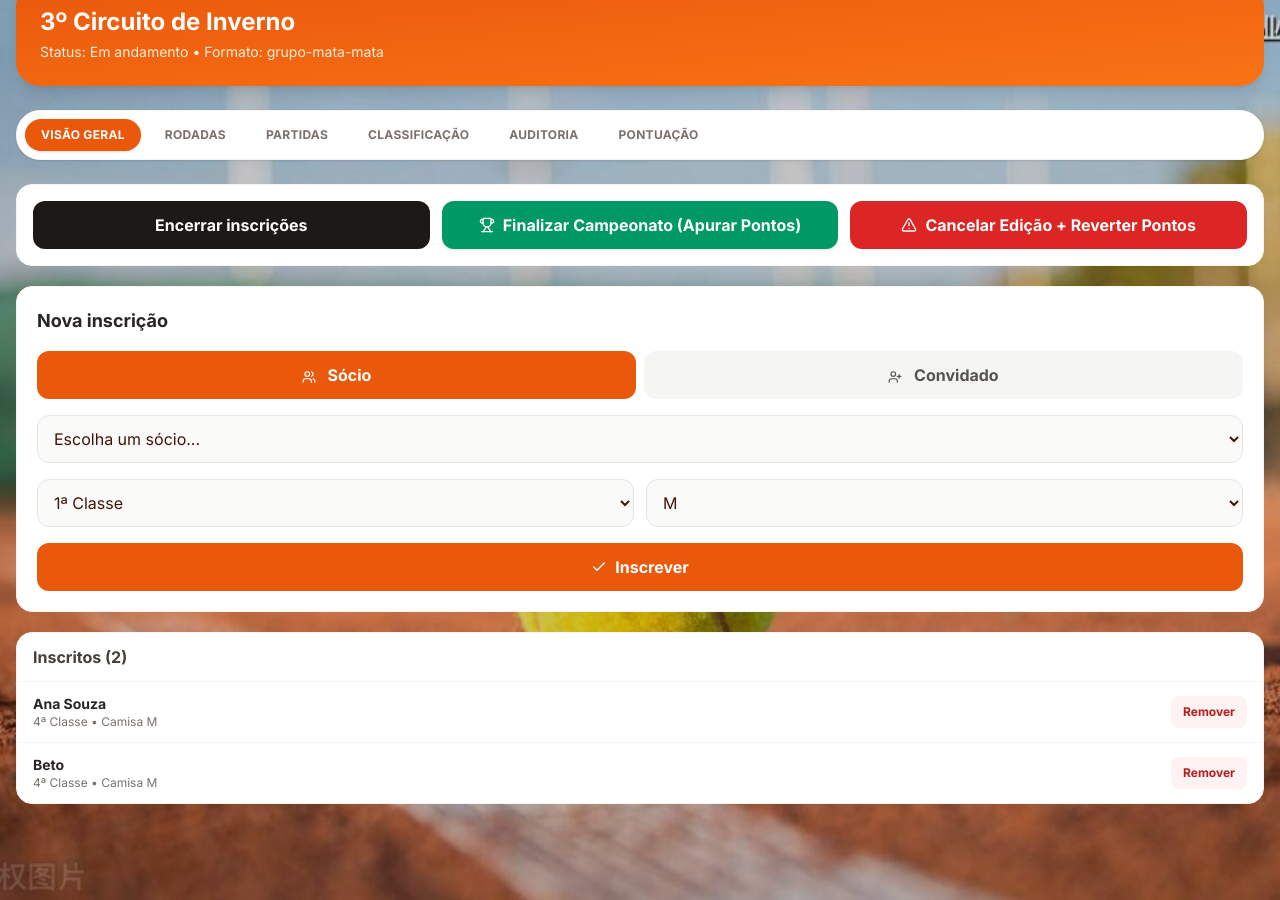
Scenario: ChampionshipAdmin — inscrições › desistir no diálogo não apaga a inscrição
(page scrolled)
Expected: the text "Ana Souza" is shown, [33,695,106,712]
Click the button "Remover" in the row of "Ana Souza": {"x": 1209, "y": 712} [1171,696,1247,728]
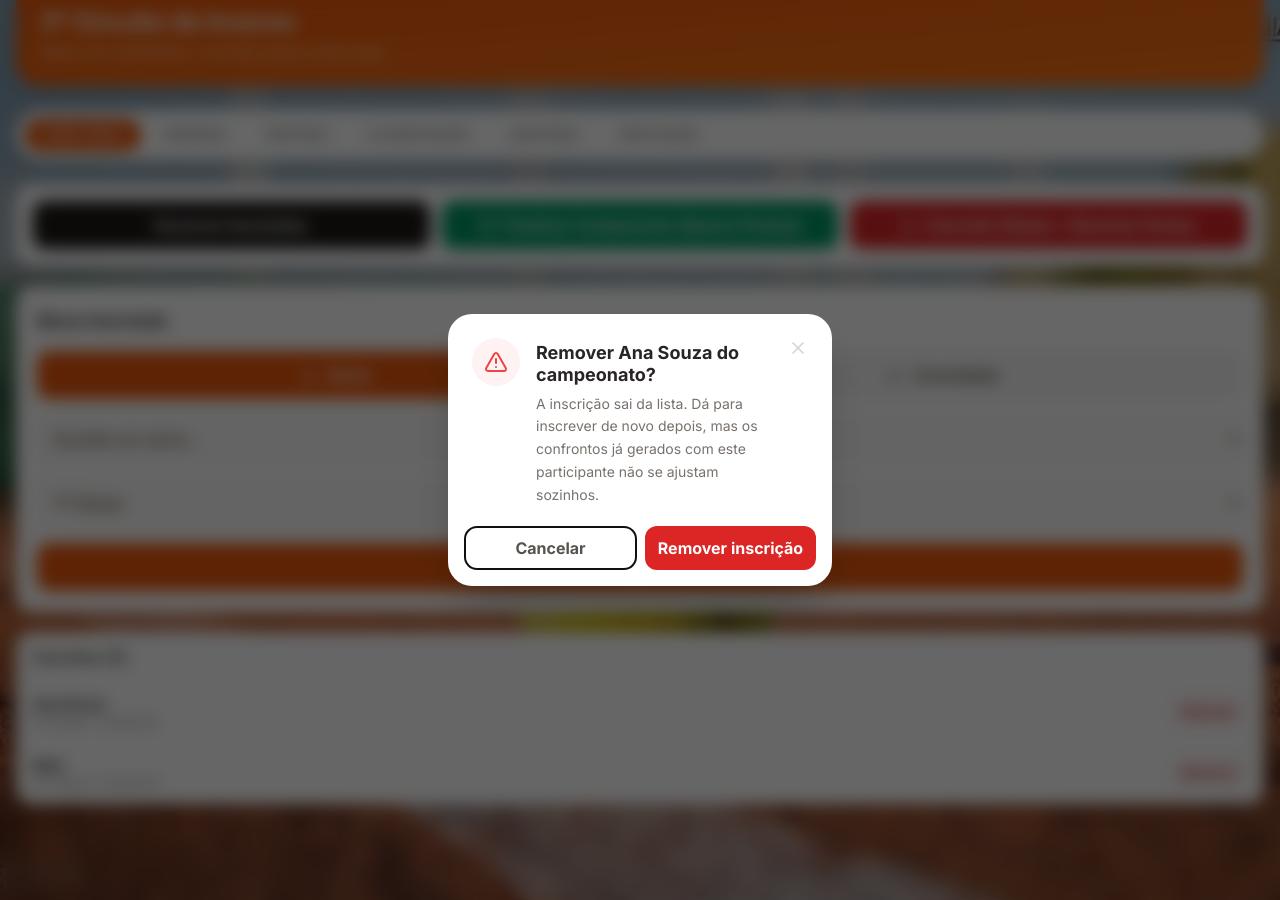
Click the button "Cancelar": {"x": 550, "y": 548} [464,526,637,570]
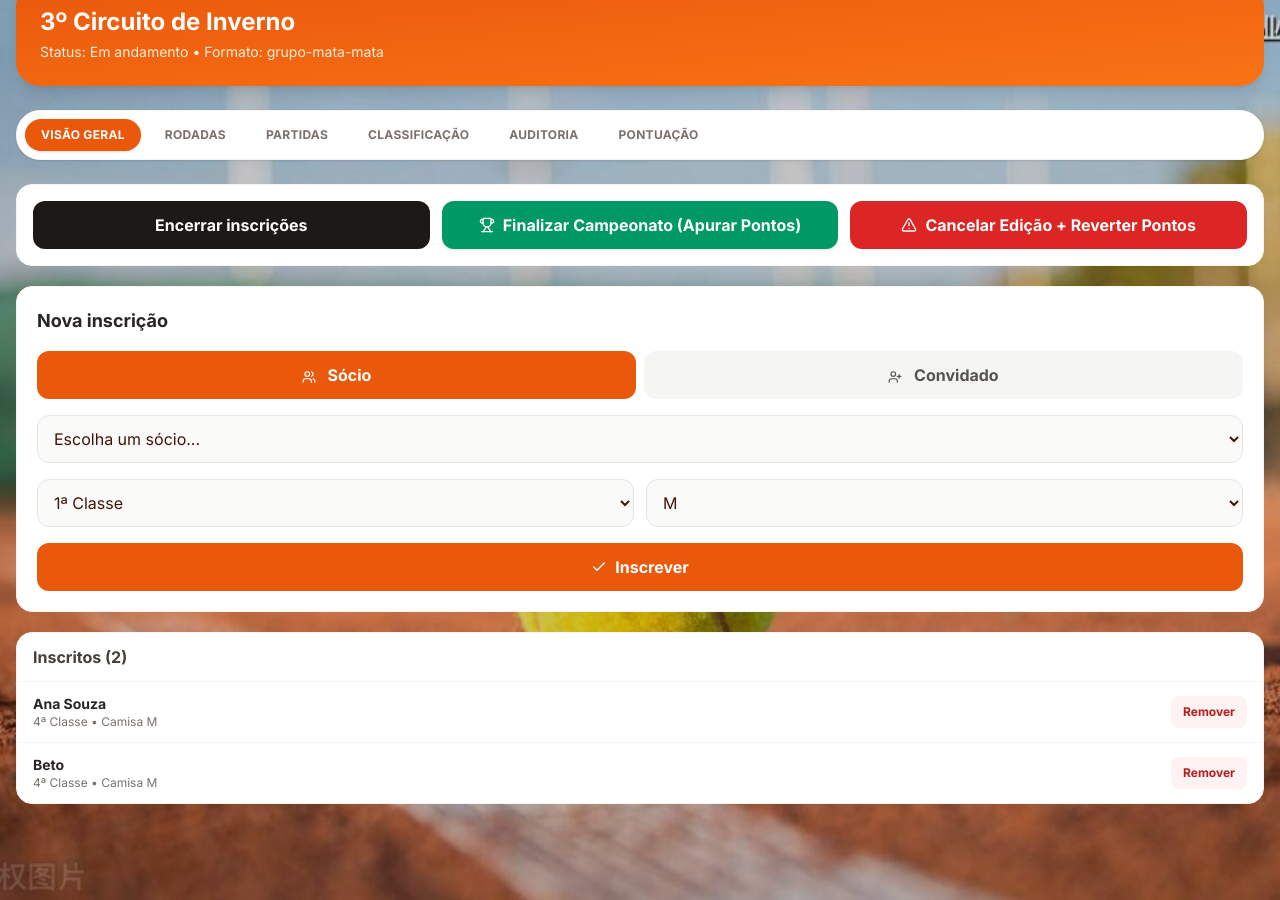
Result: the dialog is gone
